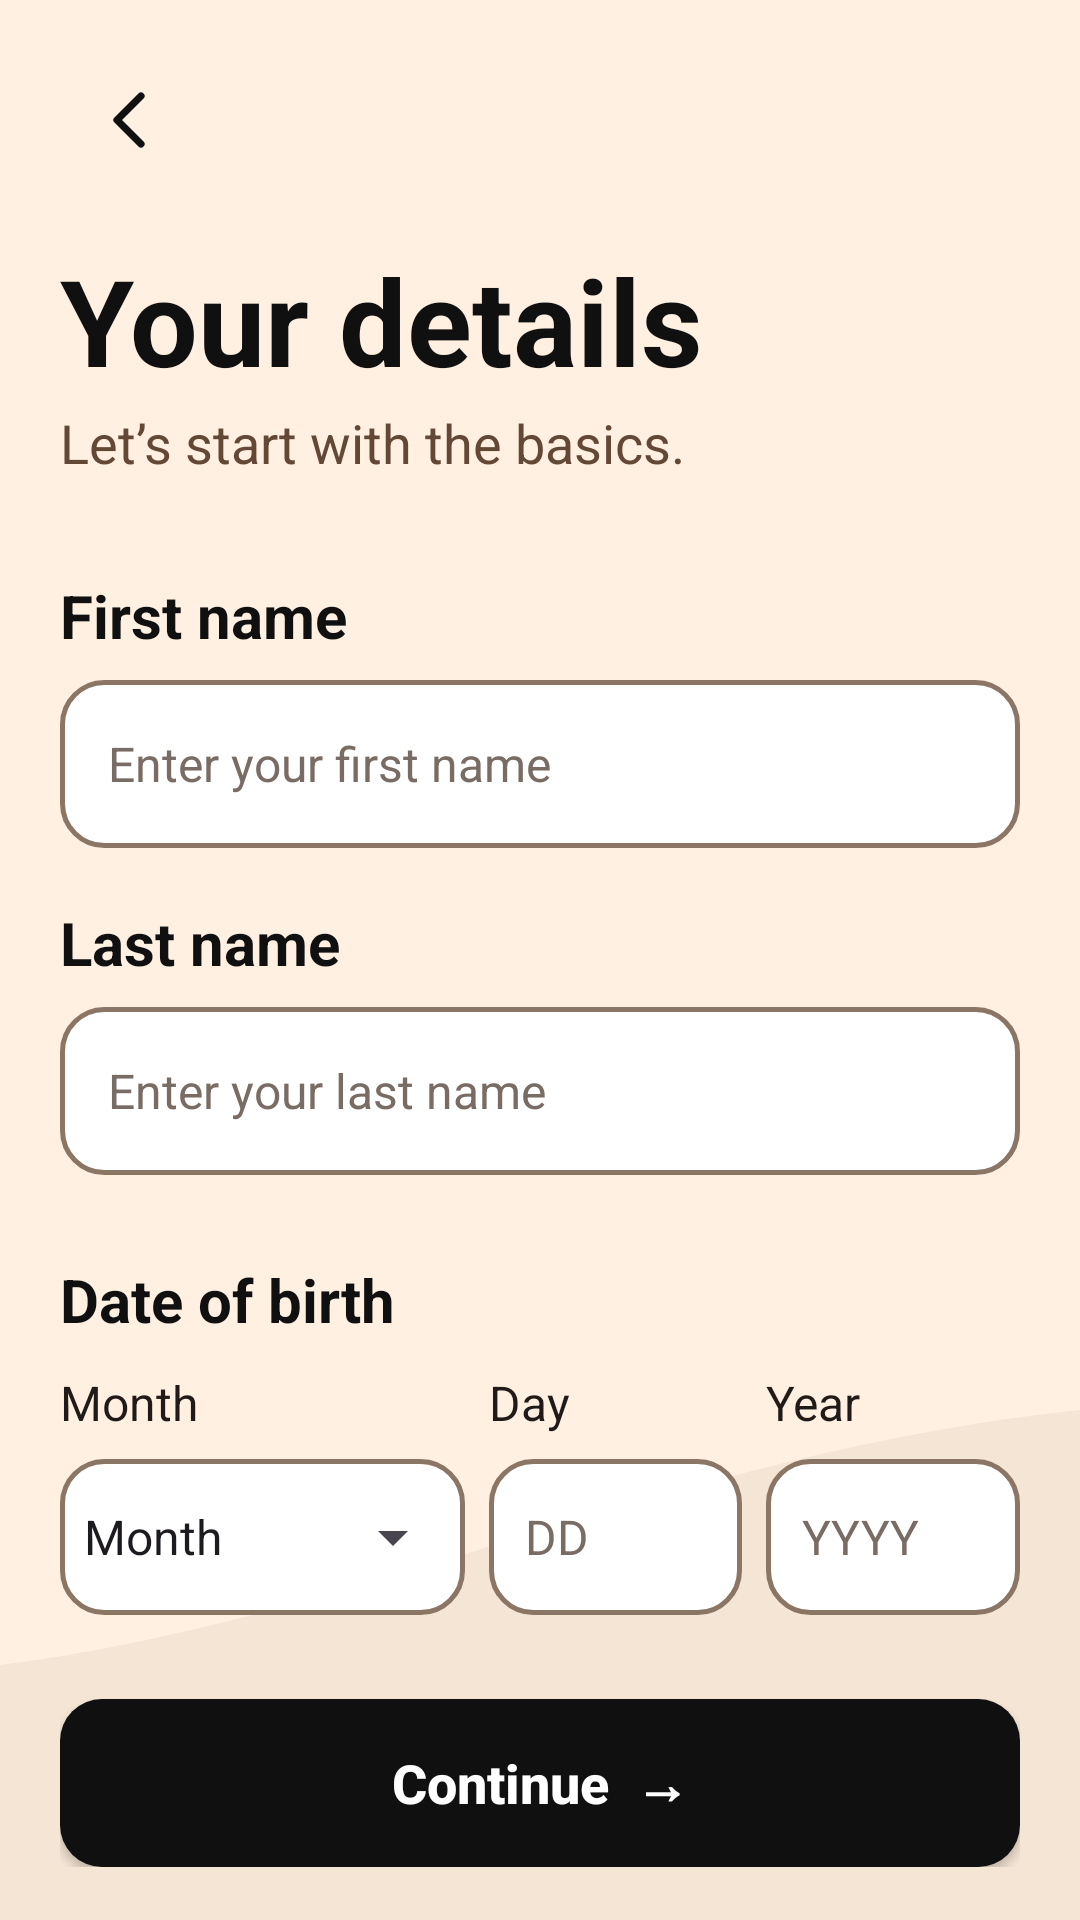

Named icons in this screenshot (1080x1920) and their centers, (x,y):
Back: (129,120)
